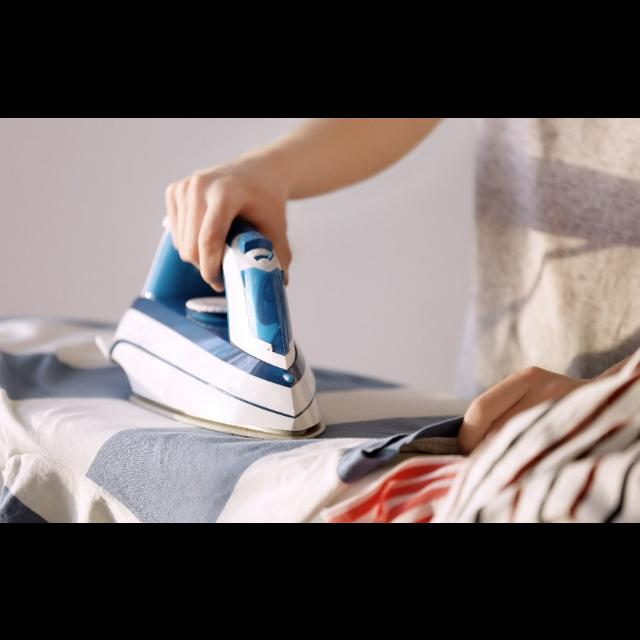Clothes-Iron: (105, 188, 335, 452)
